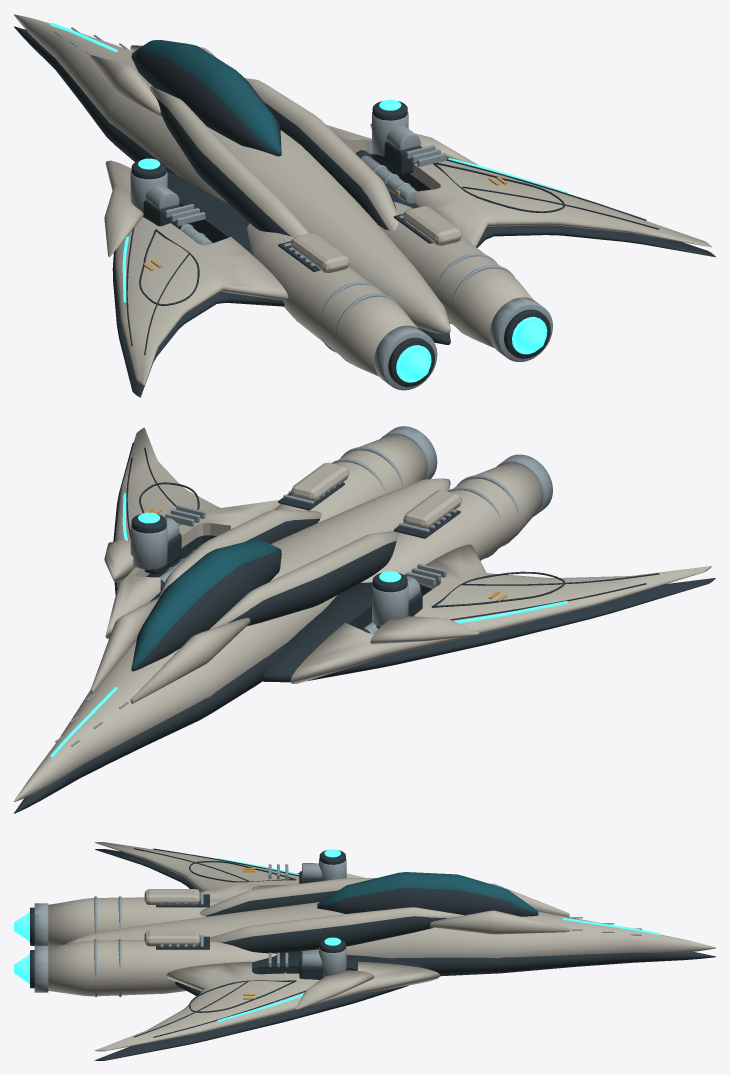
The model's file is assault-1.glb.
3 views of the same model, one above another, from view 1: azimuth 30°, elevation 25°; view 2: azimuth 150°, elevation 25°; view 3: azimuth 270°, elevation 25° (orthographic). The views are drawn at different scales.
Parts seen in each view (by area): view 1: SM_Hull, SM_Wing_Left, SM_Wing_Right, SM_Engine_Left, SM_Engine_Right, SM_Stage03, SM_Stage04, SM_Stage01, SM_Stage02, SM_Weapon_Right; view 2: SM_Hull, SM_Wing_Left, SM_Engine_Left, SM_Wing_Right, SM_Engine_Right, SM_Stage03, SM_Stage04, SM_Stage02, SM_Stage01; view 3: SM_Hull, SM_Wing_Right, SM_Engine_Right, SM_Engine_Left, SM_Wing_Left, SM_Stage03, SM_Stage04, SM_Stage02, SM_Stage01.
Boxes of the visible parts, x1=… form: SM_Hull: x1=14, y1=14, x2=450, y2=344; SM_Wing_Left: x1=105, y1=160, x2=288, y2=397; SM_Wing_Right: x1=327, y1=125, x2=715, y2=257; SM_Engine_Left: x1=247, y1=223, x2=437, y2=390; SM_Engine_Right: x1=379, y1=202, x2=552, y2=361; SM_Stage03: x1=165, y1=145, x2=461, y2=272; SM_Stage04: x1=130, y1=99, x2=408, y2=213; SM_Stage01: x1=143, y1=126, x2=421, y2=229; SM_Stage02: x1=104, y1=123, x2=478, y2=257; SM_Weapon_Right: x1=355, y1=150, x2=416, y2=203; SM_Hull: x1=14, y1=478, x2=450, y2=813; SM_Wing_Left: x1=261, y1=544, x2=715, y2=683; SM_Engine_Left: x1=361, y1=454, x2=552, y2=582; SM_Wing_Right: x1=105, y1=427, x2=280, y2=638; SM_Engine_Right: x1=274, y1=426, x2=437, y2=522; SM_Stage03: x1=165, y1=462, x2=461, y2=585; SM_Stage04: x1=130, y1=512, x2=408, y2=626; SM_Stage02: x1=104, y1=539, x2=479, y2=644; SM_Stage01: x1=144, y1=517, x2=422, y2=628; SM_Hull: x1=64, y1=872, x2=715, y2=976; SM_Wing_Right: x1=94, y1=951, x2=440, y2=1060; SM_Engine_Right: x1=14, y1=935, x2=276, y2=997; SM_Engine_Left: x1=14, y1=892, x2=223, y2=947; SM_Wing_Left: x1=95, y1=842, x2=299, y2=900; SM_Stage03: x1=144, y1=864, x2=288, y2=967; SM_Stage04: x1=319, y1=849, x2=346, y2=977; SM_Stage02: x1=295, y1=872, x2=374, y2=1009; SM_Stage01: x1=299, y1=863, x2=323, y2=979.
Size of the model in its own units: 7.16 by 1.58 by 10.08.
